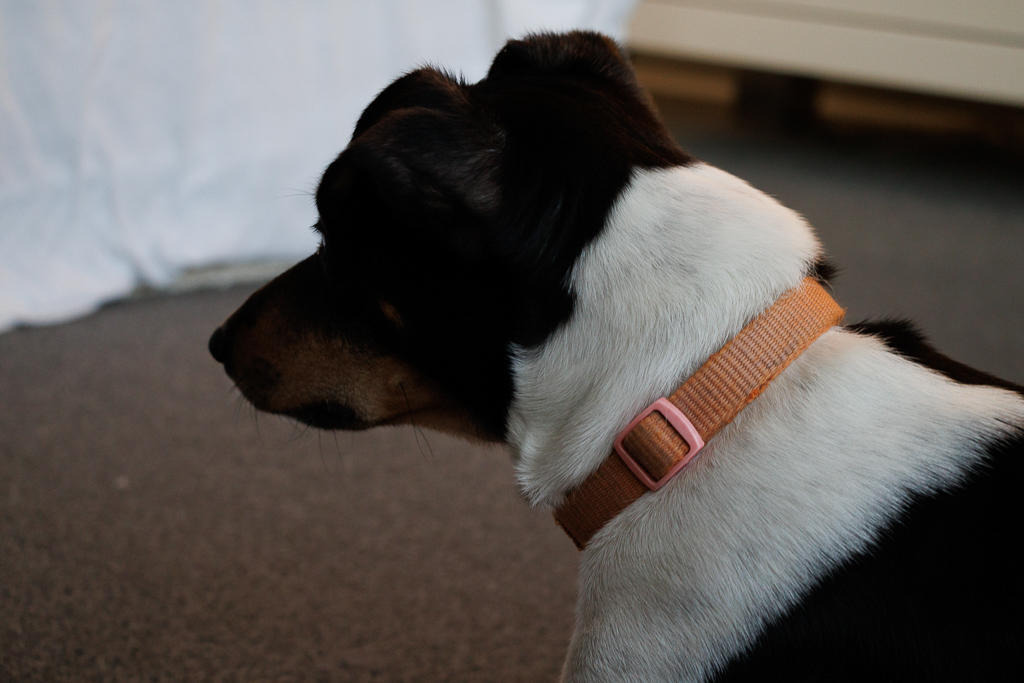Dog: (192, 23, 1023, 683)
